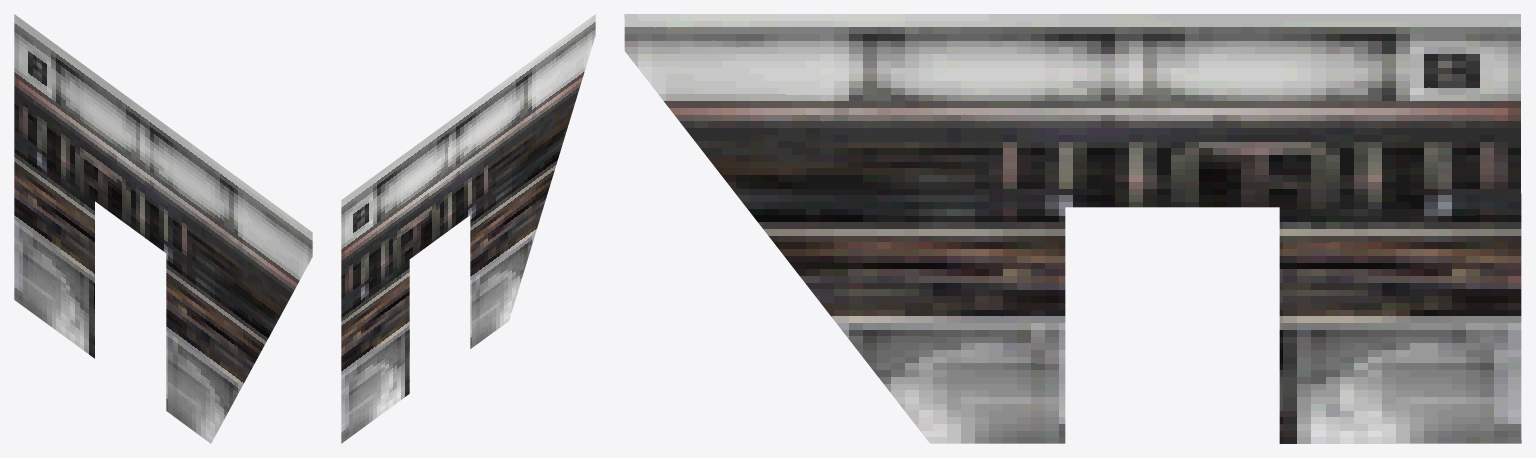
File: Controlwall.glb
3 views of the same model, side by side, from view 1: azimuth 30°, elevation 25°; view 2: azimuth 150°, elevation 25°; view 3: azimuth 270°, elevation 25° (orthographic). The views are drawn at different scales.
Visible parts, largest first — view 1: Controlwall; view 2: Controlwall; view 3: Controlwall.
Boxes of the visible parts, x1=… form: Controlwall: x1=14, y1=14, x2=312, y2=443; Controlwall: x1=341, y1=14, x2=595, y2=443; Controlwall: x1=624, y1=14, x2=1521, y2=443.
Bounding box in the file's own units: 1.5 × 1062 × 2008.
1 material, 1 textured.
